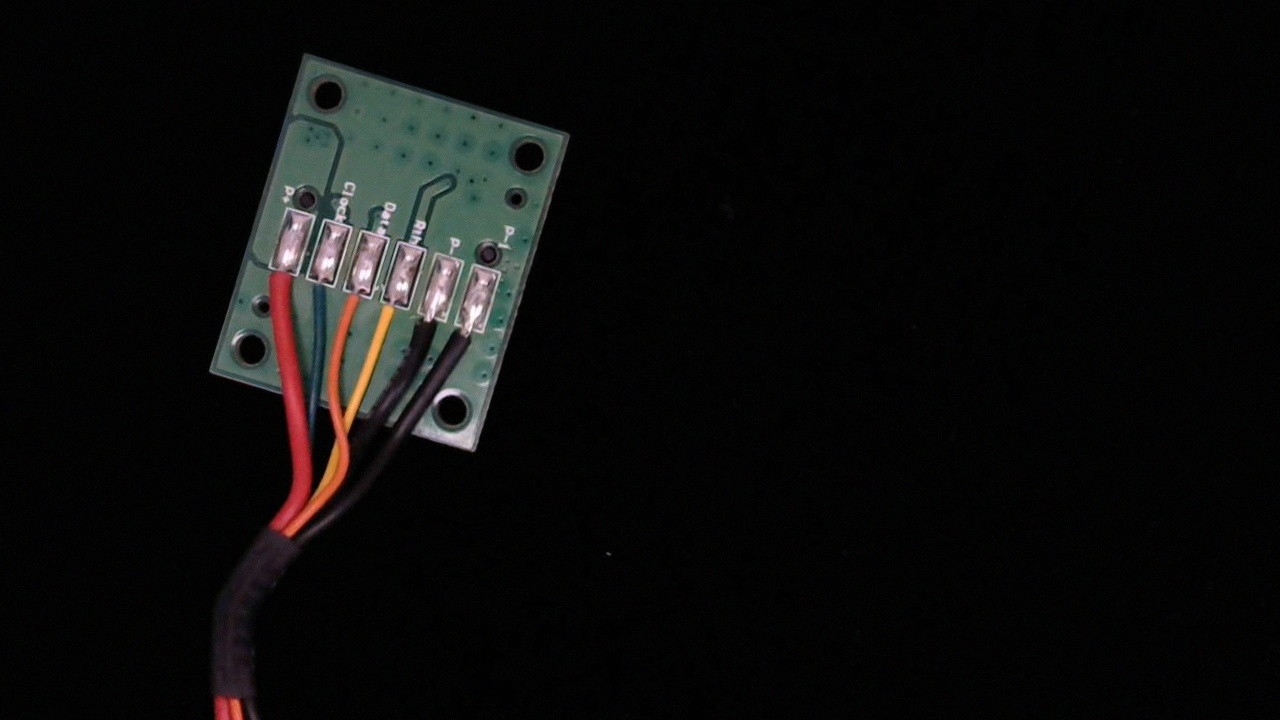Black: (402, 295, 450, 367)
Black1: (440, 309, 492, 382)
Green: (292, 256, 341, 326)
Orange: (329, 270, 376, 338)
Red: (251, 245, 305, 322)
Yellow: (366, 283, 412, 357)
